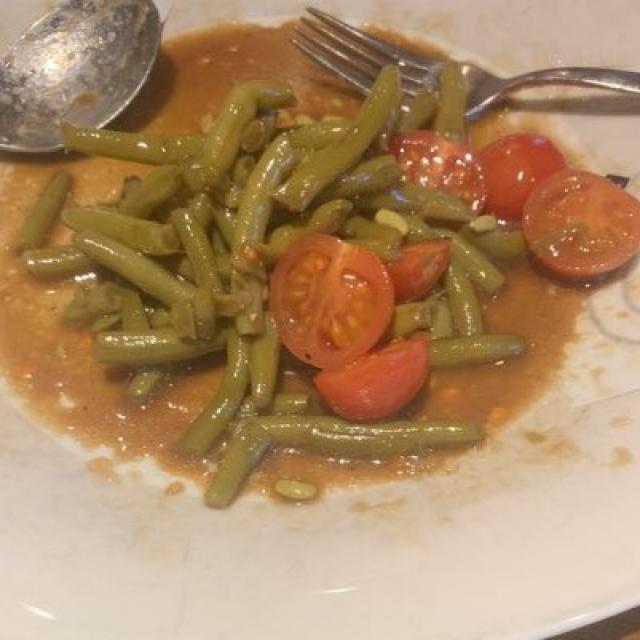salad-dressing: (18, 28, 610, 497)
tomato-raw: (26, 72, 636, 503)
